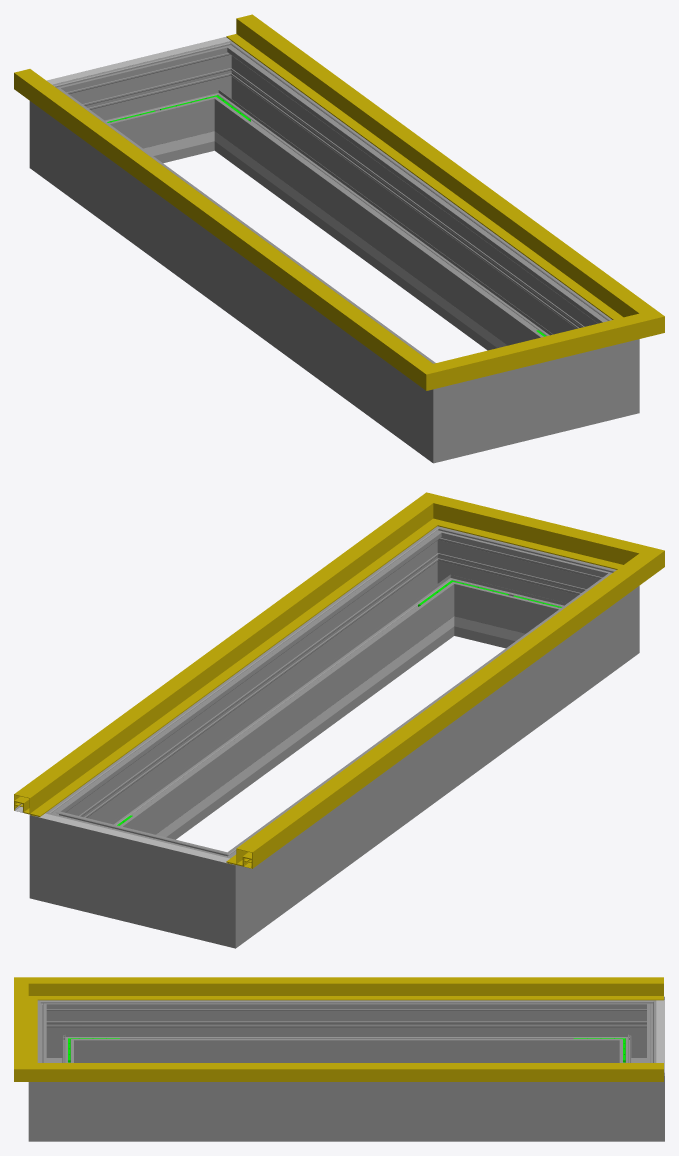
The picture shows the model from 3 angles, top to bottom: view 1: azimuth 30°, elevation 25°; view 2: azimuth 150°, elevation 25°; view 3: azimuth 270°, elevation 25°; orthographic projection. The views are drawn at different scales.
Visible parts, largest first — view 1: 3DGeom-297, 3DGeom-268, 3DGeom-128, 3DGeom-118, 3DGeom-276, 3DGeom-270, 3DGeom-298, 3DGeom-284, 3DGeom-290, 3DGeom-278, 3DGeom-123, 3DGeom-237 (+4 smaller); view 2: 3DGeom-297, 3DGeom-268, 3DGeom-128, 3DGeom-118, 3DGeom-278, 3DGeom-276, 3DGeom-298, 3DGeom-284, 3DGeom-290, 3DGeom-123, 3DGeom-270, 3DGeom-237 (+4 smaller); view 3: 3DGeom-268, 3DGeom-297, 3DGeom-118, 3DGeom-128, 3DGeom-284, 3DGeom-290, 3DGeom-278, 3DGeom-270, 3DGeom-120, 3DGeom-125, 3DGeom-123, 3DGeom-220 (+2 smaller).
Part boxes in pixels (x1,y1,x2,y2): 3DGeom-297: (220, 62, 594, 350); 3DGeom-268: (64, 105, 417, 437); 3DGeom-128: (226, 14, 629, 313); 3DGeom-118: (14, 69, 407, 365); 3DGeom-276: (95, 53, 204, 163); 3DGeom-270: (399, 350, 492, 463); 3DGeom-298: (493, 353, 579, 448); 3DGeom-284: (182, 37, 260, 154); 3DGeom-290: (580, 307, 639, 427); 3DGeom-278: (29, 70, 117, 192); 3DGeom-123: (477, 324, 605, 376); 3DGeom-237: (248, 156, 507, 347); 3DGeom-297: (74, 547, 448, 839); 3DGeom-268: (251, 590, 604, 923); 3DGeom-128: (14, 517, 417, 816); 3DGeom-118: (226, 572, 630, 868); 3DGeom-278: (176, 835, 269, 948); 3DGeom-276: (89, 821, 186, 933); 3DGeom-298: (464, 538, 573, 648); 3DGeom-284: (29, 792, 99, 912); 3DGeom-290: (408, 526, 487, 639); 3DGeom-123: (471, 507, 604, 563); 3DGeom-270: (551, 559, 639, 677); 3DGeom-237: (156, 641, 420, 837); 3DGeom-268: (83, 1000, 610, 1062); 3DGeom-297: (83, 1082, 610, 1141); 3DGeom-118: (68, 977, 663, 1000); 3DGeom-128: (68, 1063, 663, 1081); 3DGeom-284: (610, 1053, 664, 1141); 3DGeom-290: (28, 1053, 82, 1141); 3DGeom-278: (610, 996, 664, 1062); 3DGeom-270: (37, 1000, 82, 1062); 3DGeom-120: (14, 977, 68, 1012); 3DGeom-125: (14, 1046, 68, 1081); 3DGeom-123: (14, 1000, 37, 1058); 3DGeom-220: (656, 1000, 664, 1072).
Size of the model in its own units: 0.6096 by 0.2434 by 1.83.
